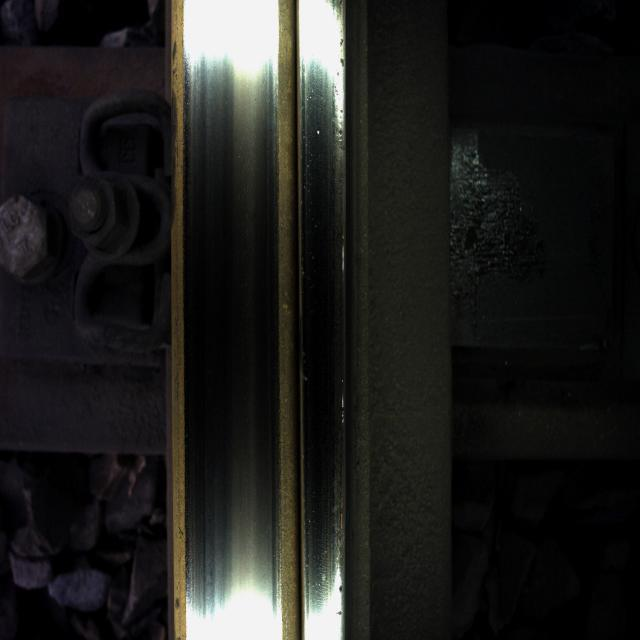break: (181, 18, 264, 618)
